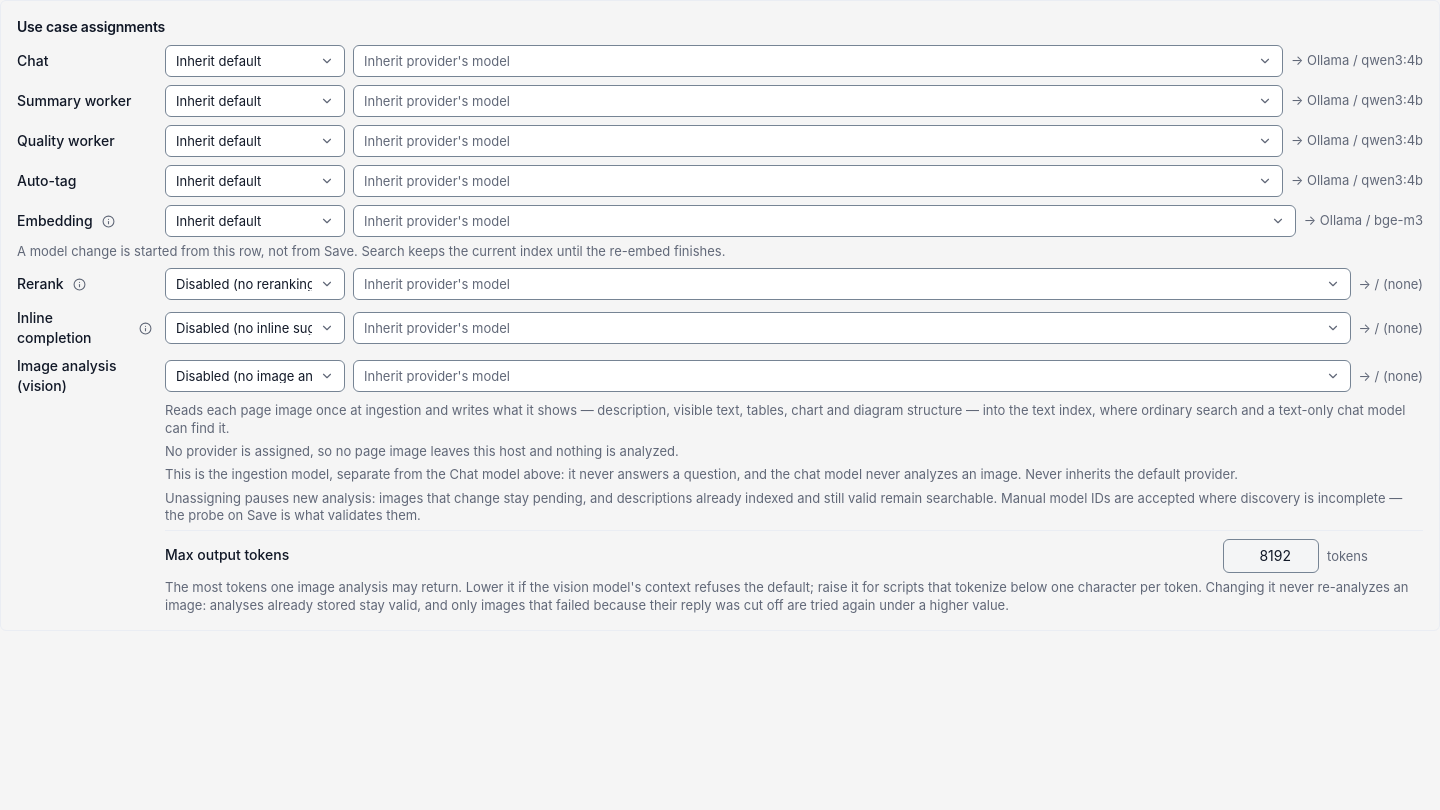
Test: UsecaseAssignmentsSection › renders inline completion as disabled with accessible model guidance
Click the button named "About the inline-completion model": (145, 328) [133,316,157,340]
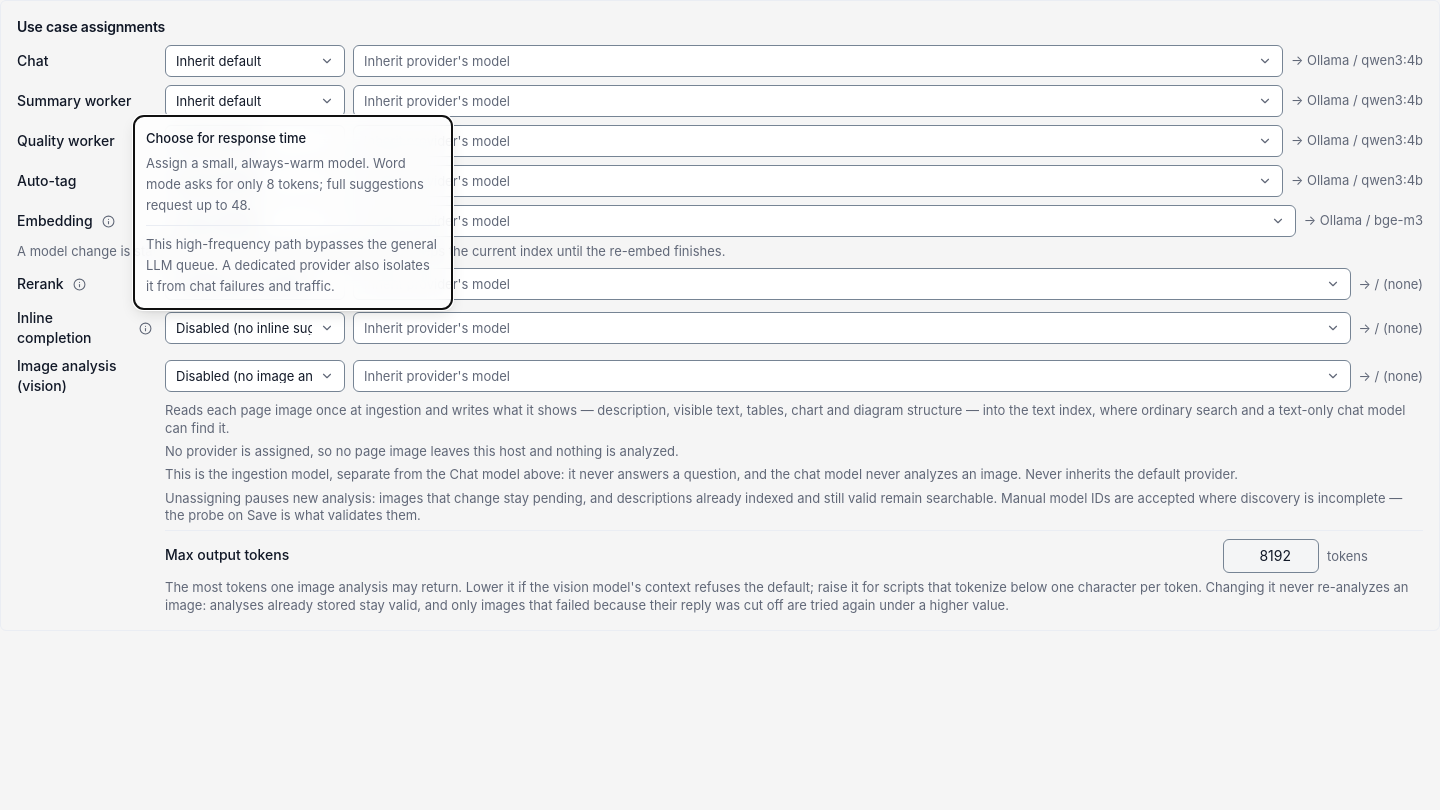
Expected: the dialog with test id "inline-completion-info-content" shows "Assign a small, always-warm model", [146,155,424,213]
